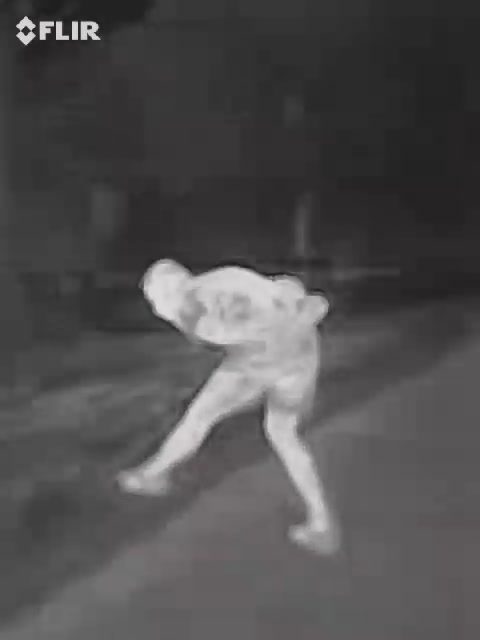head: (128, 246, 198, 321)
